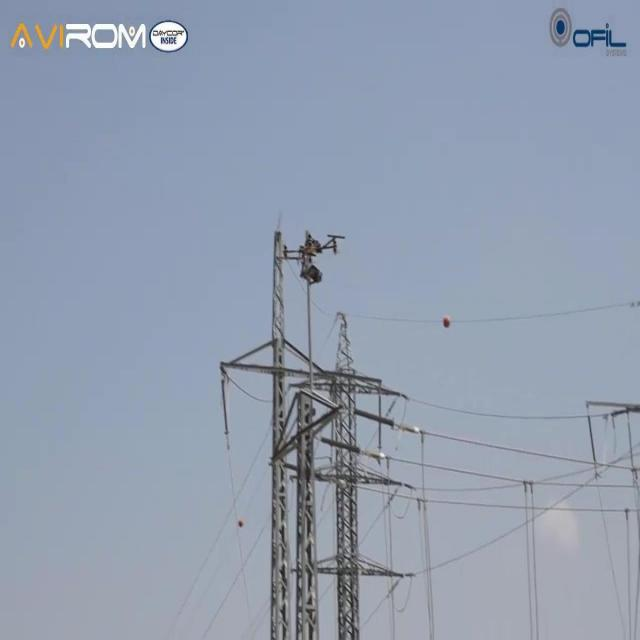UAV: (283, 230, 345, 260)
